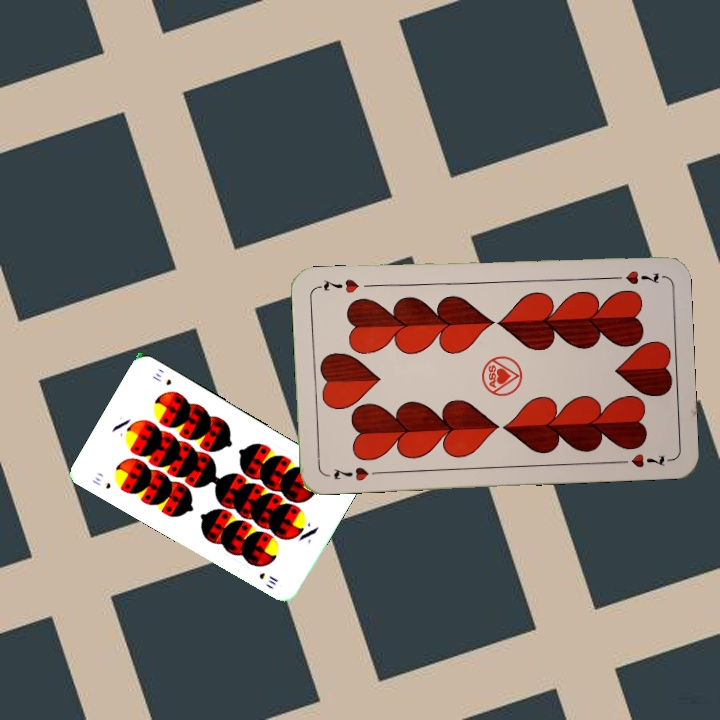H7: (605, 266, 664, 286), (330, 463, 383, 484)
S10: (88, 472, 113, 491)
